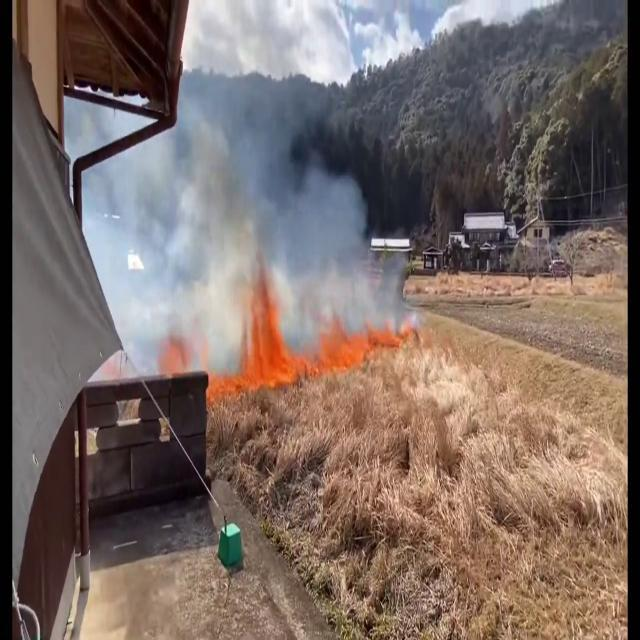Fire: (212, 292, 304, 400), (310, 291, 428, 370)
Smoke: (122, 22, 362, 368)
